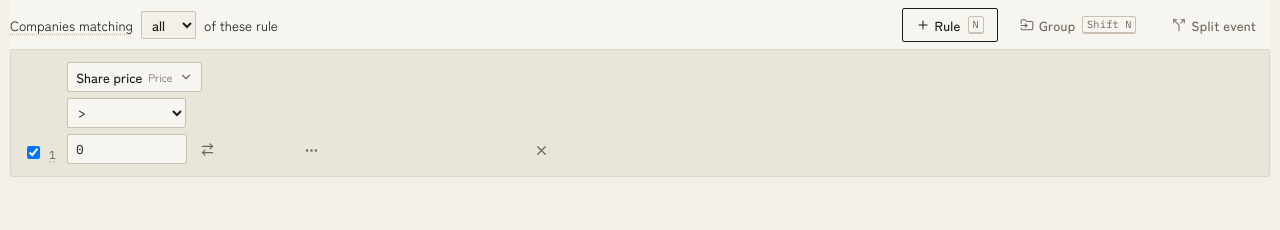
Scenario: rule builder › reshapes a rule for between and keeps its metric
Select "between" in the dropdown named "Rule comparison" at (126,113), box [67, 98, 186, 128]
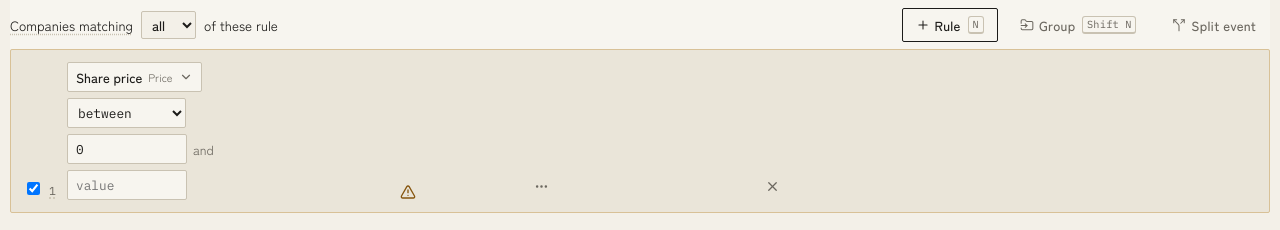
Expected: the field named "Minimum value" is shown, [67, 134, 187, 164]
Result: the field named "Maximum value" is shown at [67, 170, 187, 200]
